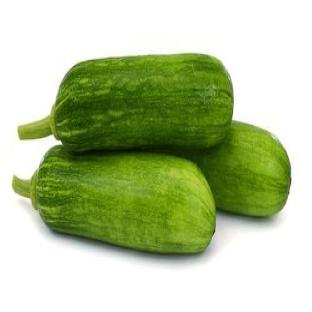Zucchini: (13, 147, 215, 253), (19, 54, 233, 151), (176, 122, 290, 215)
